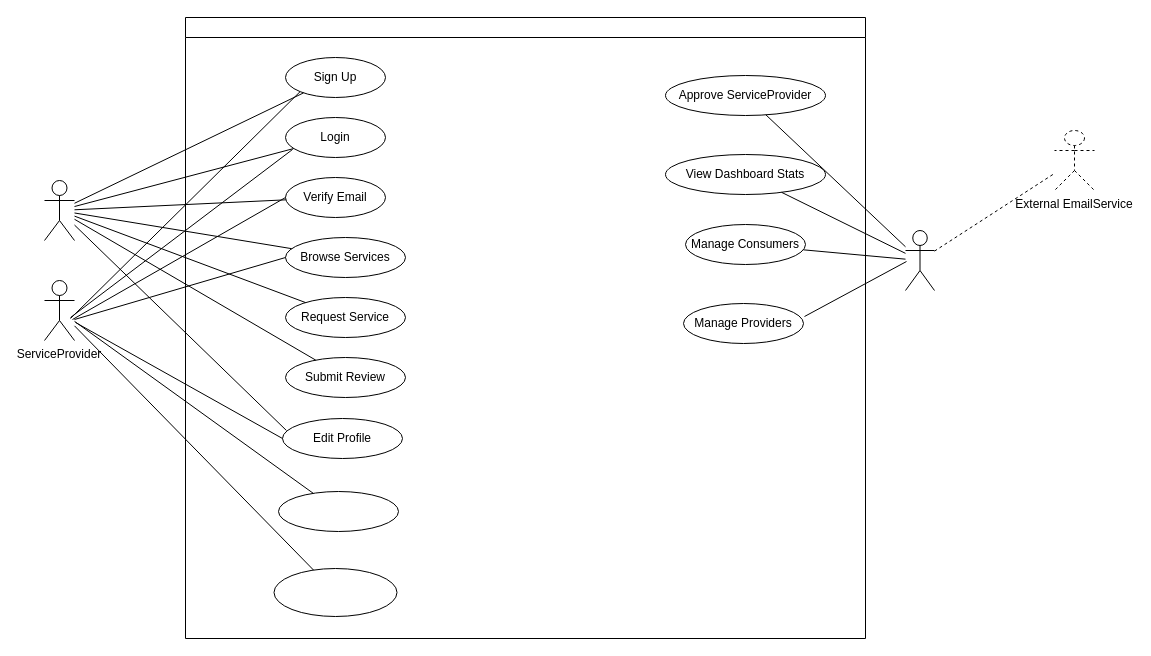
The diagram is 1151 pixels wide and 656 high, and some of its shapes have lost their labels. Each missing label, with the centre of its shape:
Admin: pixel 919 260
Consumer: pixel 59 210
Register Service: pixel 338 511
Update Availability: pixel 335 592
